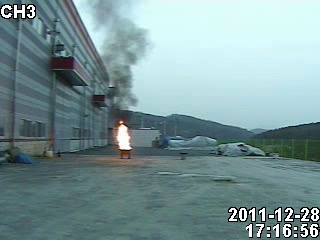fire: (112, 120, 132, 152)
smoke: (95, 2, 144, 117)
